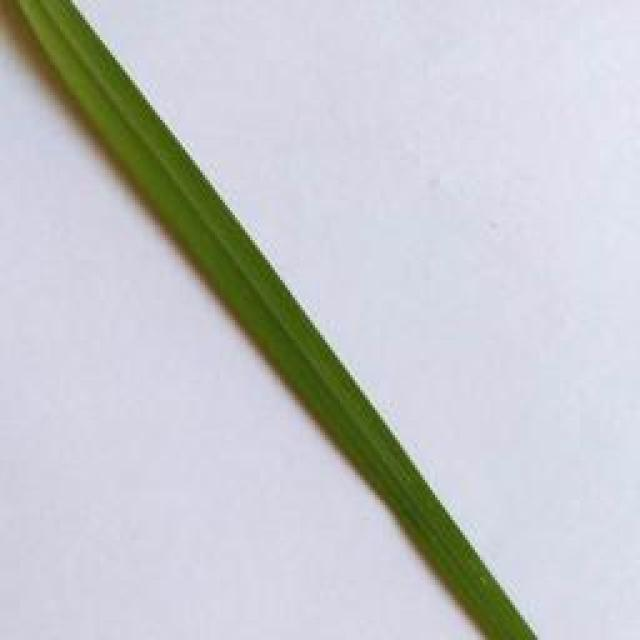Healthy-Plant: (13, 0, 538, 640)
